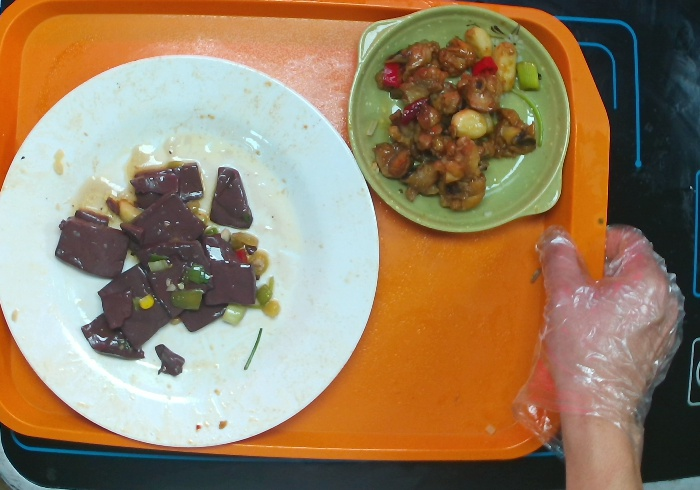NLDX-Da_Yuan_Pan: (1, 48, 387, 458)
NLDX-Lv_Hua_Shuang_Er_Die: (344, 4, 584, 240)
